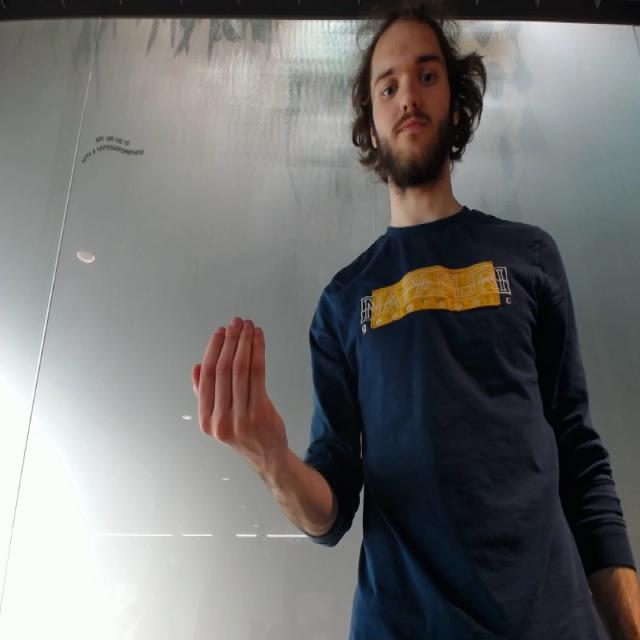forward: (191, 306, 286, 462)
